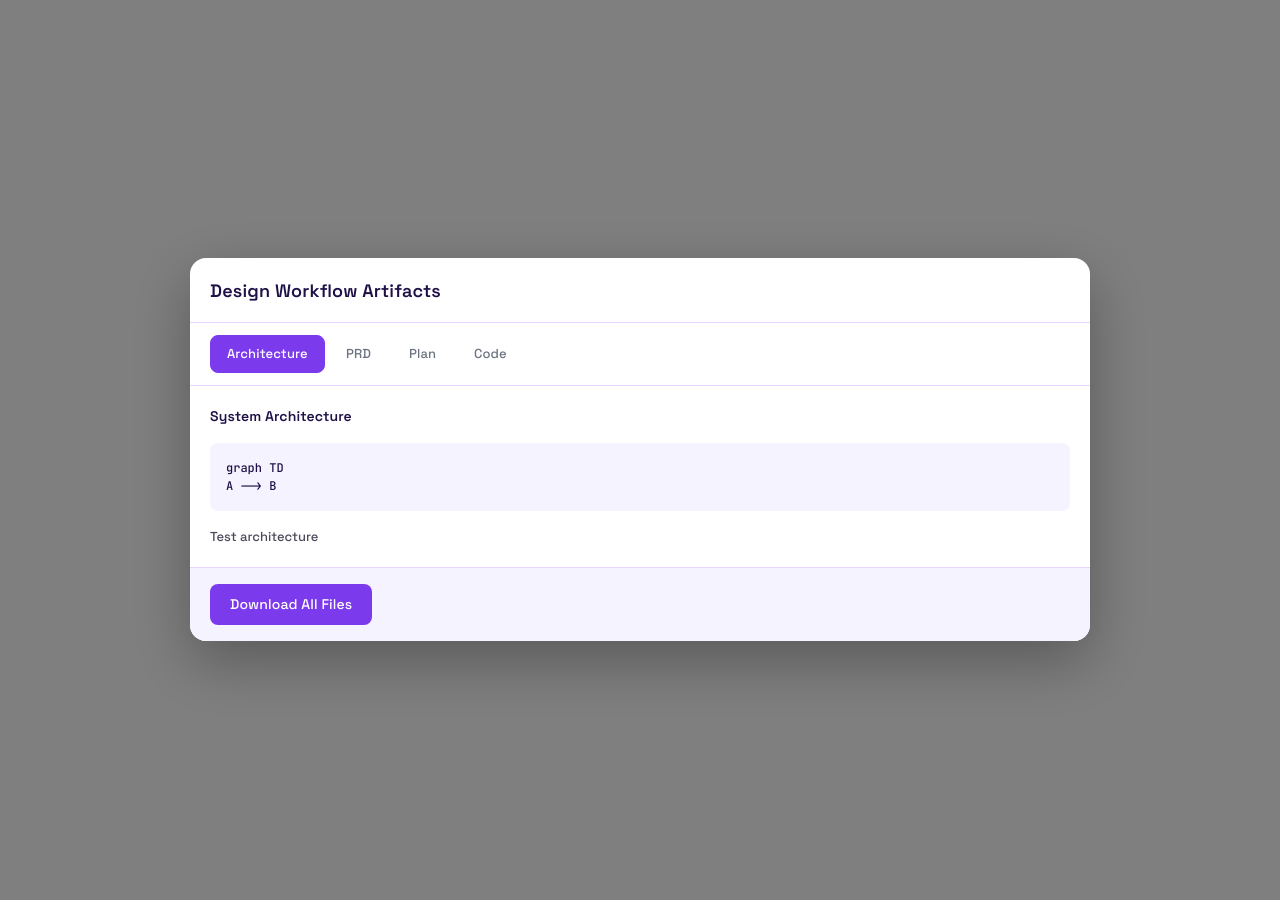
Test: ArtifactViewer › should show PRD content when PRD tab selected
Click the button "PRD".
click(358, 354)  # box [329,335,388,373]
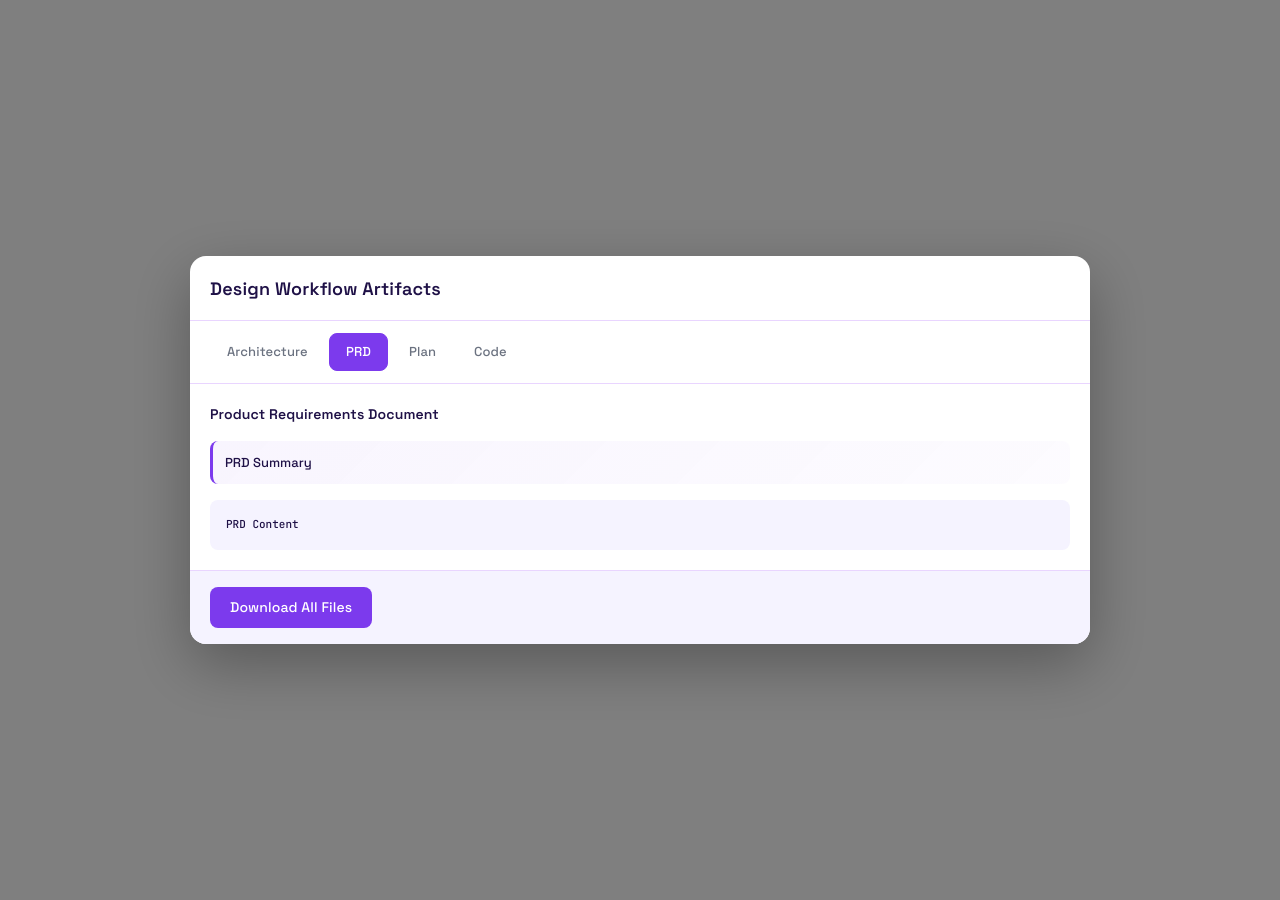
Expected: the heading "Product Requirements Document" is shown, [210,405,439,423]
Expected: the text "PRD Summary" is shown, [210,441,1070,484]
Expected: the text "PRD Content" is shown, [226,517,299,531]
